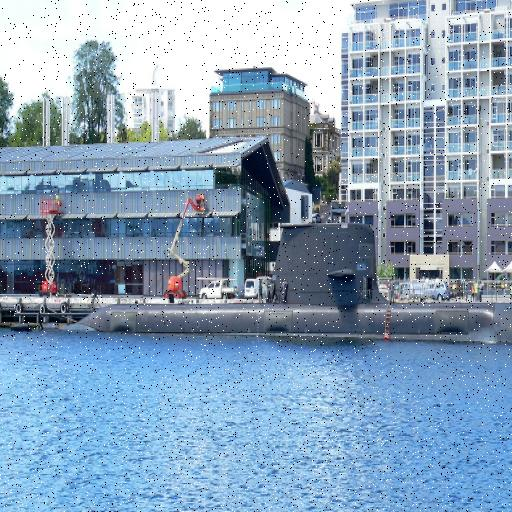submarine: (79, 223, 512, 346)
